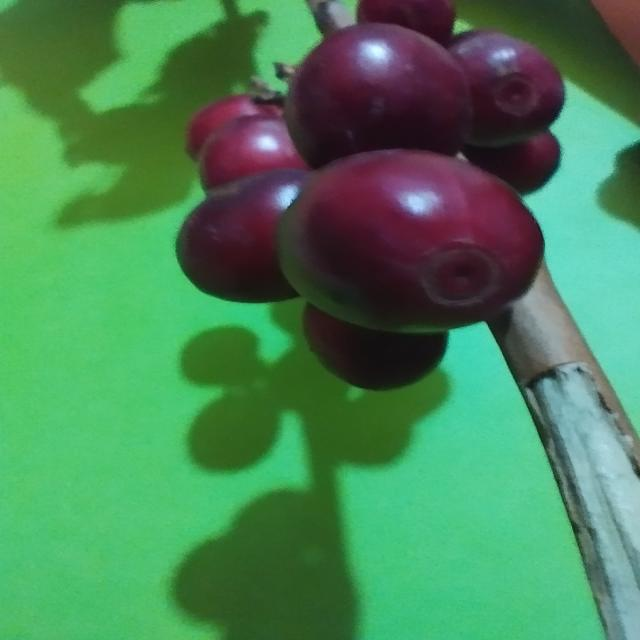Sano: (278, 150, 545, 333), (284, 21, 474, 172), (185, 96, 307, 301), (450, 30, 567, 148)
